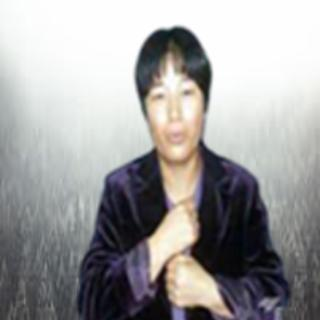CAREFUL: (152, 196, 213, 315)
